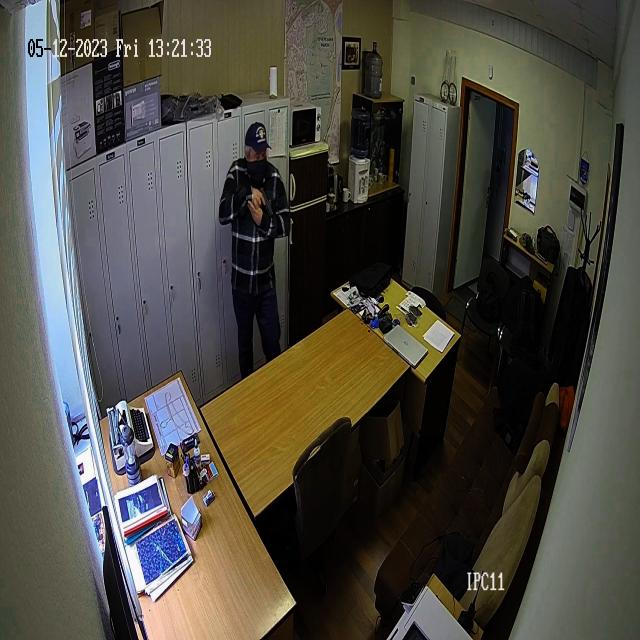gun: (218, 121, 290, 345), (259, 184, 274, 223)
